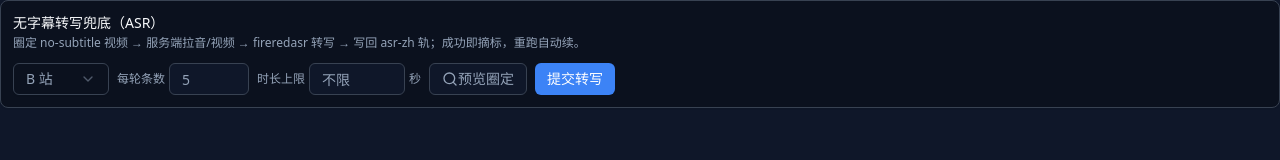
Test case: 预览失败：红字透出 server 文案，列表不出
Click the button "预览圈定" at [478, 79], box [429, 63, 527, 95]
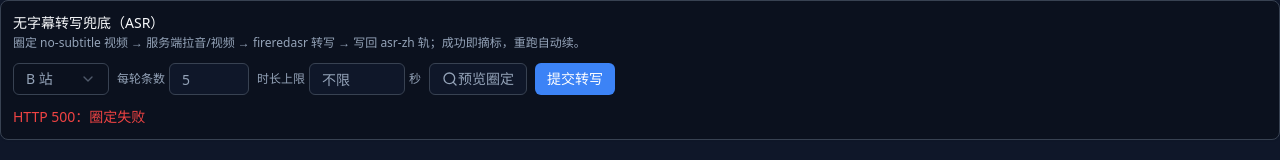
Result: the text "HTTP 500：圈定失败" is shown at [13, 107, 145, 126]
